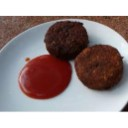cutlet: (76, 46, 123, 90), (45, 18, 88, 56)
